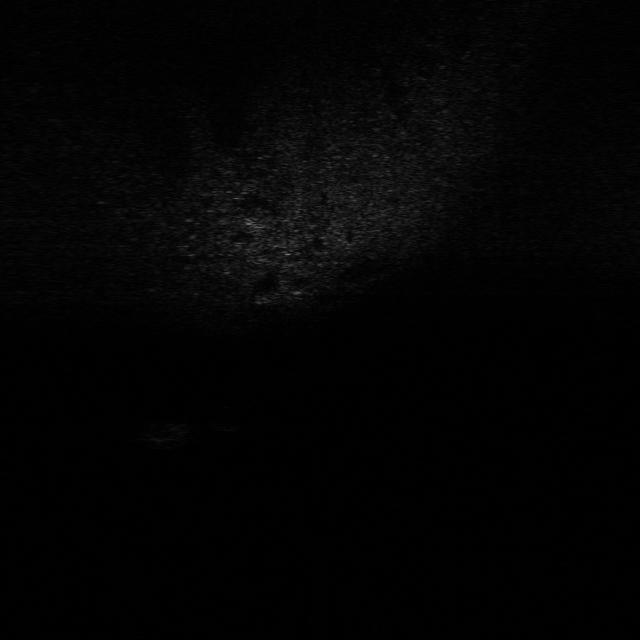ball: (128, 420, 203, 450)
square cage: (208, 404, 246, 432)
